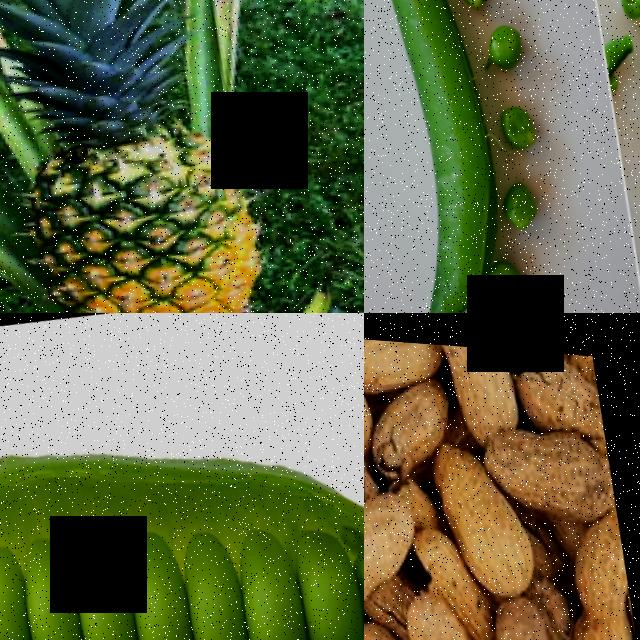peanuts: (478, 400, 620, 518), (549, 496, 640, 640), (435, 338, 524, 433), (364, 479, 423, 582), (486, 582, 580, 640), (401, 576, 476, 640)
peas: (0, 451, 364, 640), (471, 14, 566, 238)
pineapple: (5, 65, 282, 313)
